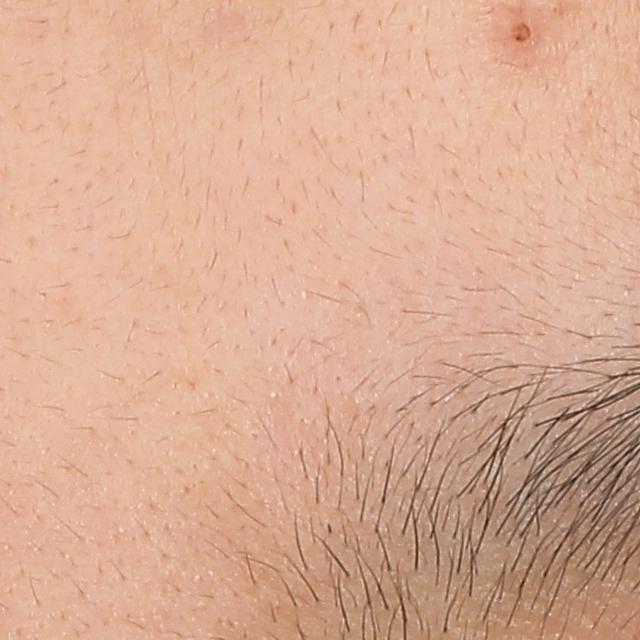papule: (500, 8, 543, 55)
